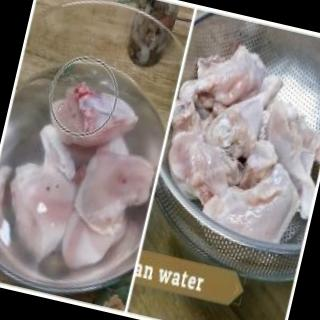Ayam: (148, 31, 320, 256)
